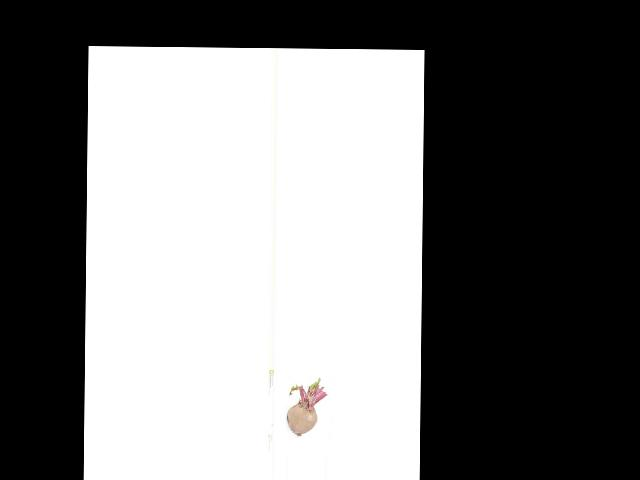beet: (287, 378, 327, 437)
